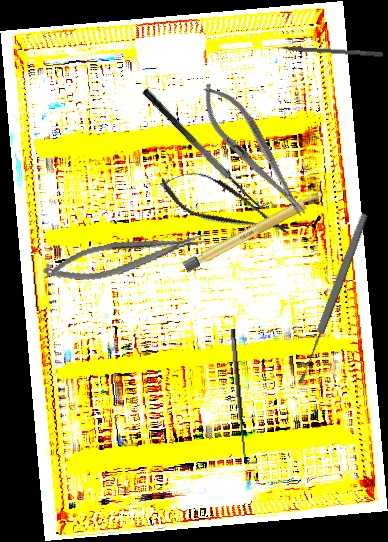Hook Surgical: (228, 328, 258, 465)
Micro Scissor: (153, 158, 298, 252)
Needle Holder: (188, 73, 319, 228), (40, 226, 210, 289)
Pusher: (264, 42, 384, 58)
Scalpel Handle: (182, 189, 326, 273)
Spatula Surgical: (140, 77, 273, 218)
Surgical Spoon: (294, 212, 371, 385)
